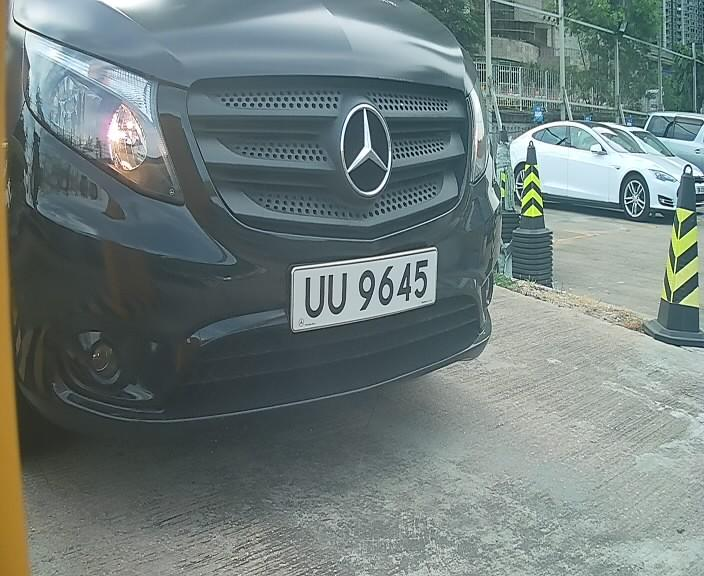License Plate: (287, 237, 444, 340)
